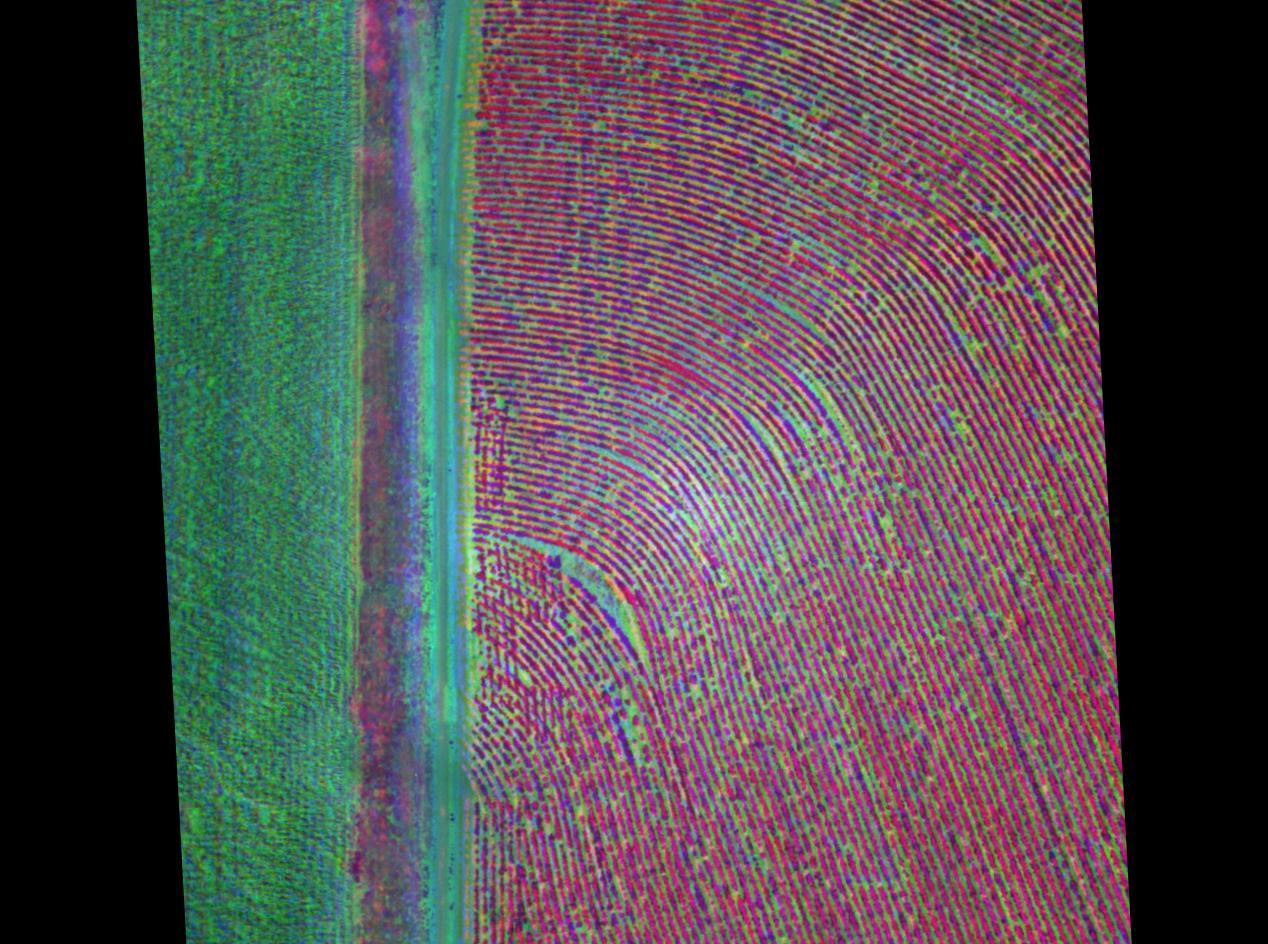dc: (516, 538, 652, 672), (728, 73, 842, 173), (651, 418, 772, 494), (921, 338, 1020, 421), (891, 20, 976, 77)
